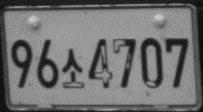0: (139, 37, 163, 88)
4: (87, 37, 113, 88)
6: (36, 38, 59, 88)
7: (164, 37, 189, 88), (112, 38, 136, 88)
9: (10, 39, 32, 89)
소: (62, 48, 84, 89)
